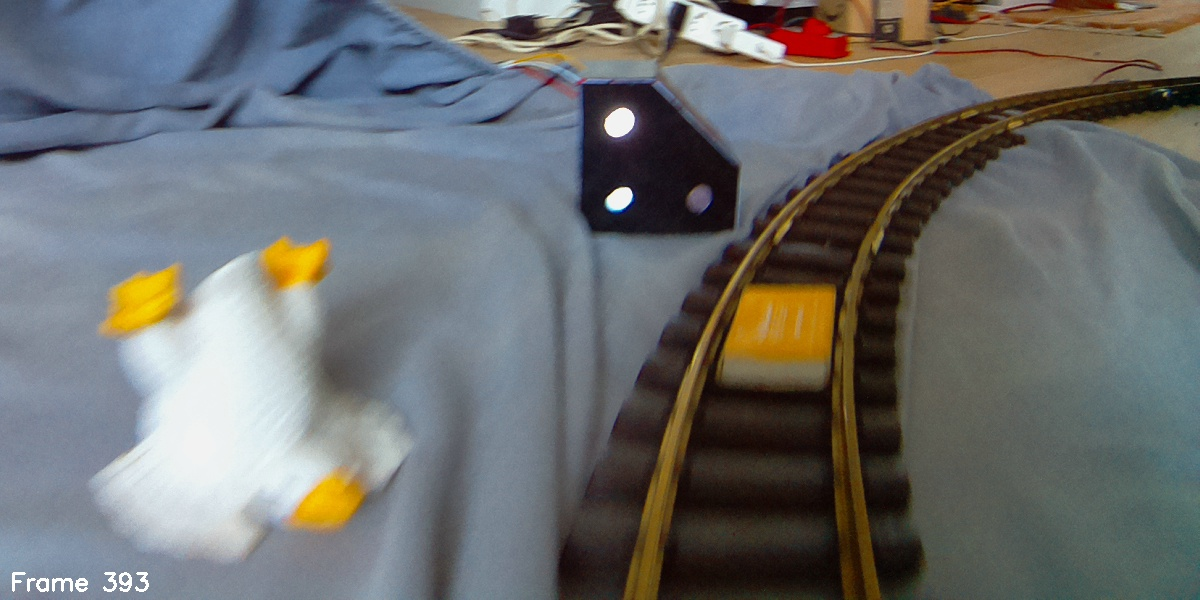Ente: (93, 232, 419, 566)
Fahrt: (582, 64, 742, 237)
